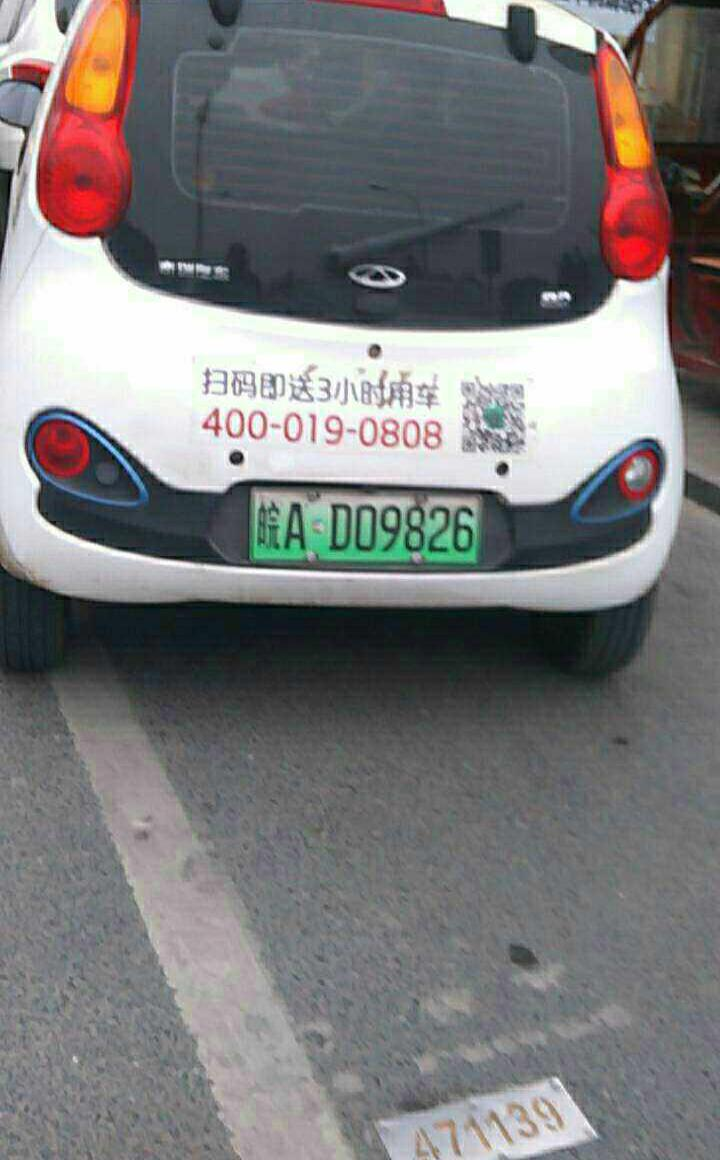car_id: (248, 486, 482, 563)
